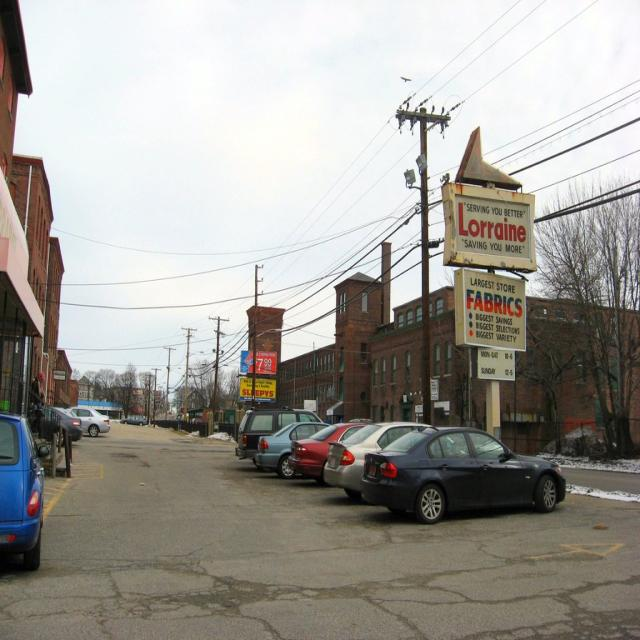car: (361, 424, 564, 518)
